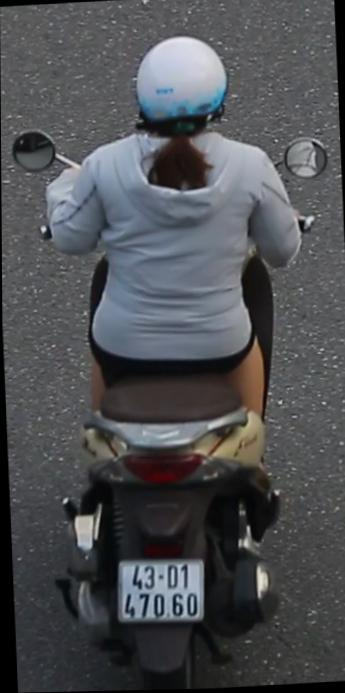LP: (111, 550, 209, 634)
helmet: (127, 26, 233, 149)
